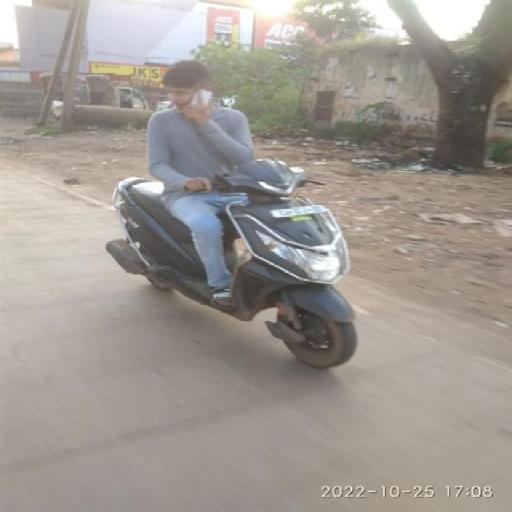using mobile: (183, 85, 223, 121)
